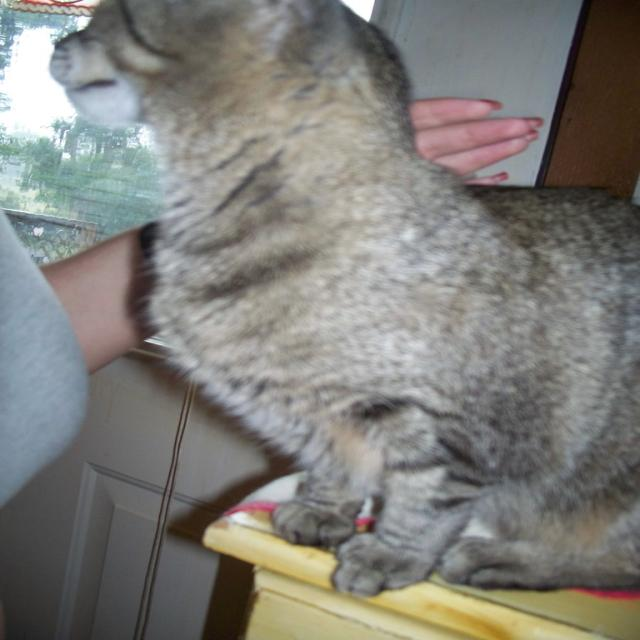Cat: (42, 0, 638, 598)
